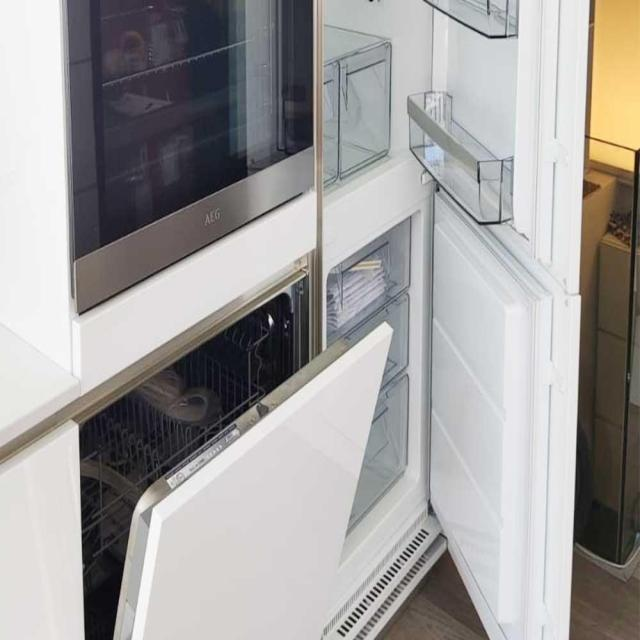dishwasher: (80, 242, 396, 639)
